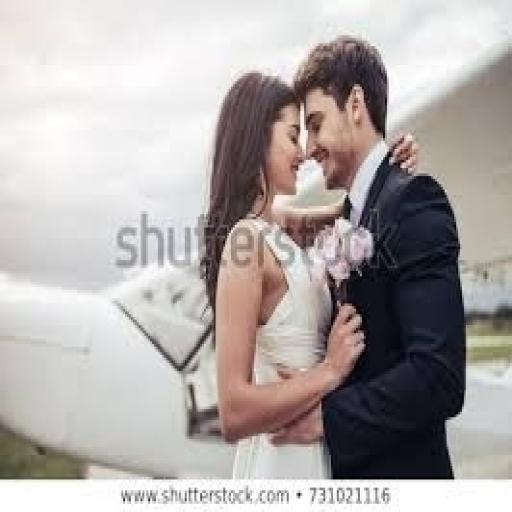hugging: (198, 32, 468, 480)
